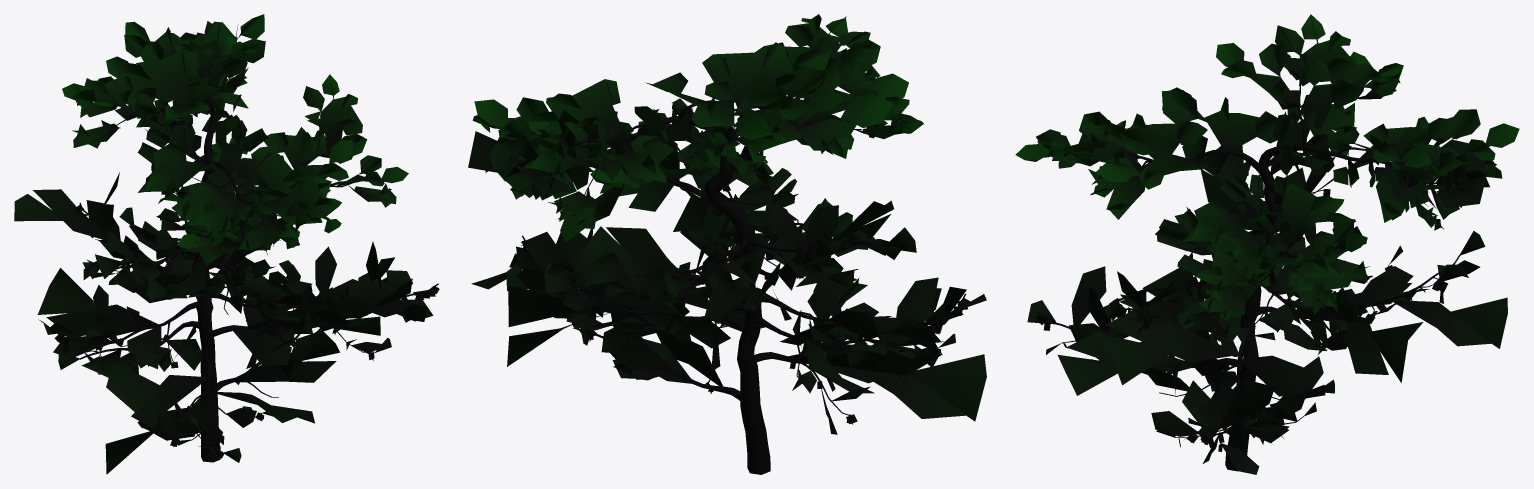
File: Pine_beach_medium_01.fbx
3 renders of one model, left to right at view 1: azimuth 30°, elevation 25°; view 2: azimuth 150°, elevation 25°; view 3: azimuth 270°, elevation 25°, orthographic. The views are drawn at different scales.
Visible parts, largest first — view 1: pine_beach_medium_01_LOD0; view 2: pine_beach_medium_01_LOD0; view 3: pine_beach_medium_01_LOD0.
Part boxes in pixels (x1=…): pine_beach_medium_01_LOD0: x1=14, y1=14, x2=439, y2=474; pine_beach_medium_01_LOD0: x1=468, y1=14, x2=986, y2=474; pine_beach_medium_01_LOD0: x1=1015, y1=14, x2=1519, y2=474.
Size of what is drawn, in the model's own units: 337 by 296 by 336.
